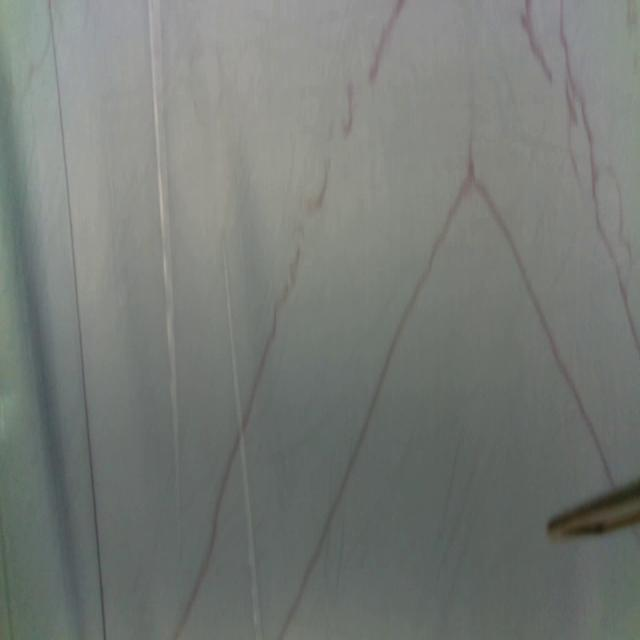crease: (46, 0, 107, 640), (148, 0, 183, 559), (222, 249, 260, 640)
